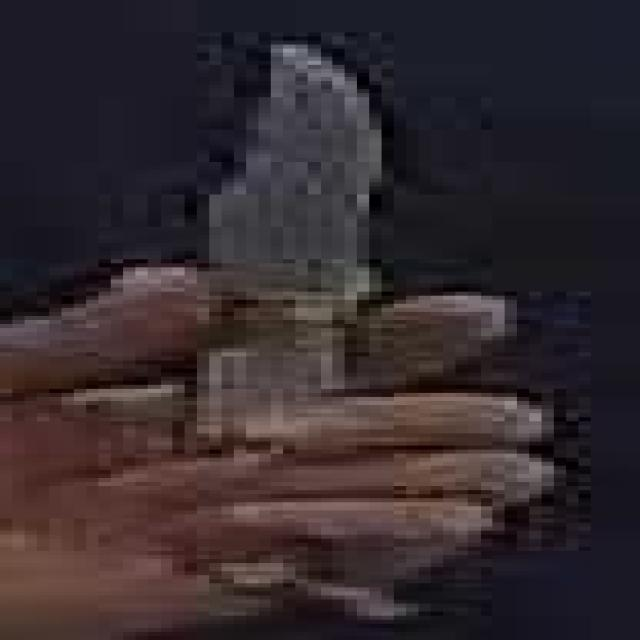Knife: (200, 37, 387, 471)
